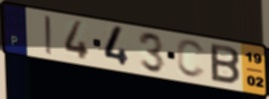3: (137, 31, 167, 74)
4: (102, 24, 134, 70), (62, 19, 92, 62)
B: (209, 42, 241, 87)
C: (176, 39, 208, 81)
I: (43, 14, 55, 57)
